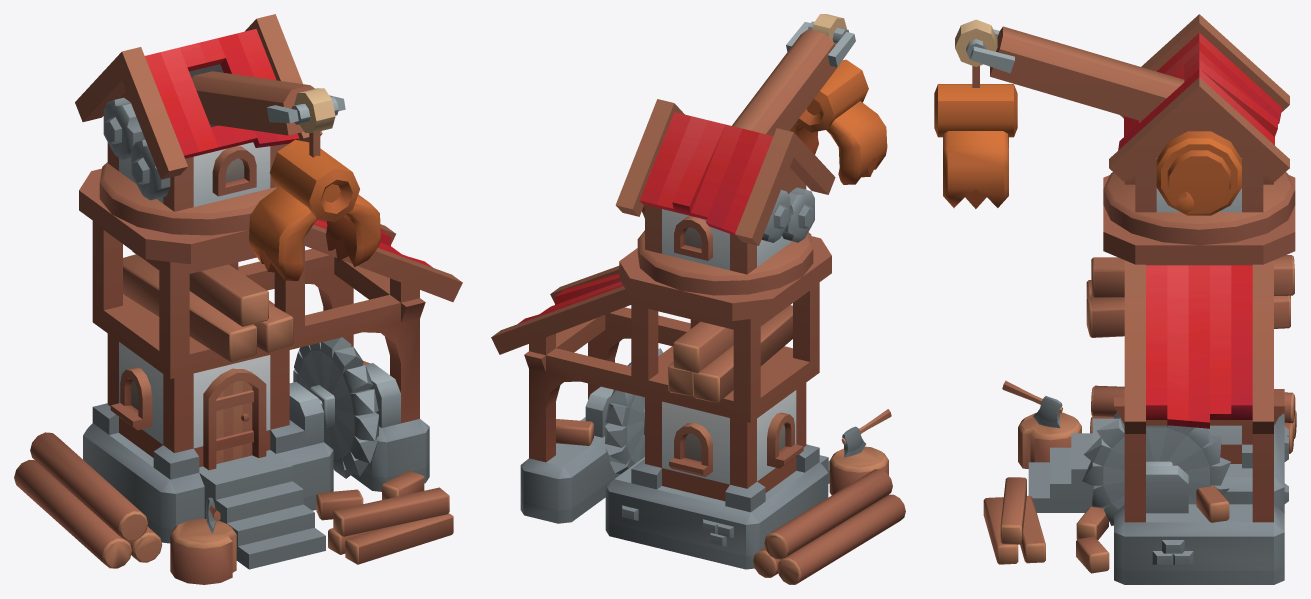
File: kk_lumbermill_v1.glb
3 renders of one model, left to right at view 1: azimuth 30°, elevation 25°; view 2: azimuth 150°, elevation 25°; view 3: azimuth 270°, elevation 25°, orthographic. The views are drawn at different scales.
Visible parts, largest first — view 1: building_lumbermill_red; view 2: building_lumbermill_red; view 3: building_lumbermill_red.
Part boxes in pixels (x1,y1,x2,y2): building_lumbermill_red: (14, 14, 462, 584); building_lumbermill_red: (491, 14, 905, 584); building_lumbermill_red: (934, 14, 1296, 584).
Size of the model in its own units: 1.37 by 1.71 by 1.19.
1 material, 1 textured.
